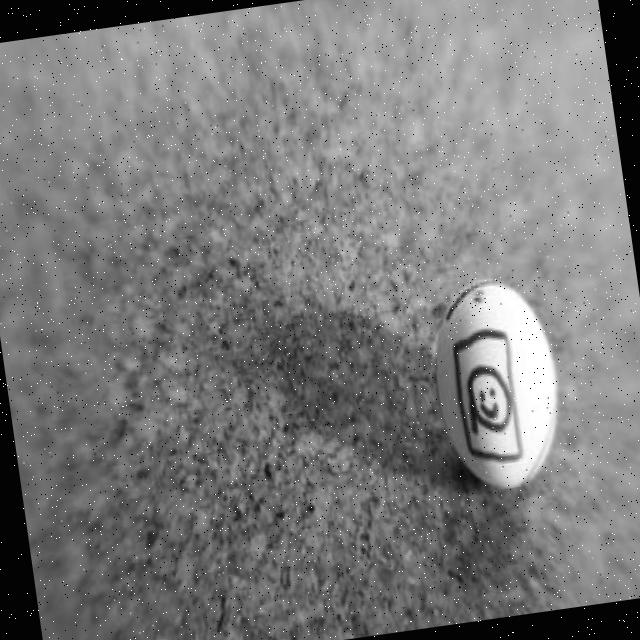ping-pong-ball: (419, 267, 570, 502)
